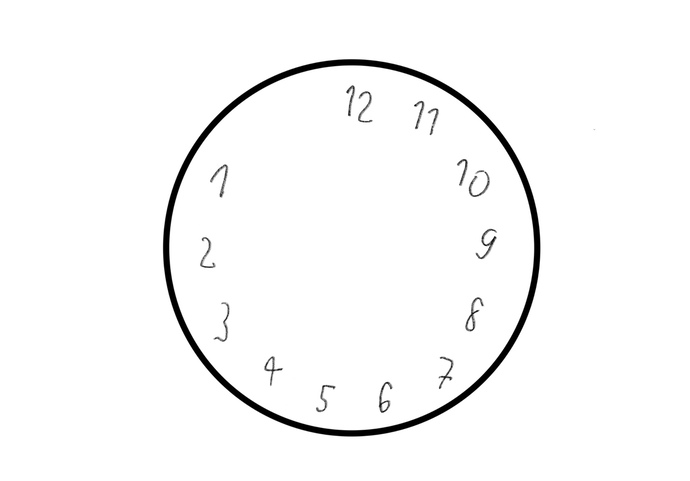eight: (456, 291, 489, 338)
eleven: (406, 94, 443, 143)
five: (311, 378, 338, 417)
four: (257, 350, 285, 386)
nine: (473, 225, 501, 263)
one: (206, 160, 234, 199)
seven: (429, 348, 457, 395)
six: (372, 371, 398, 417)
ten: (454, 154, 494, 203)
three: (203, 296, 237, 347)
twelve: (336, 83, 384, 129)
two: (192, 231, 218, 273)
